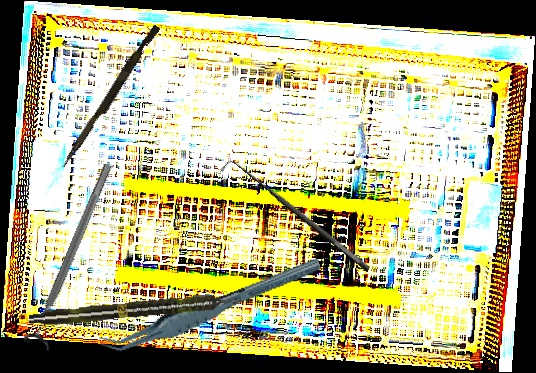Fixation Ring: (20, 159, 123, 352)
Handpiece: (28, 291, 245, 329)
Hook Surgical: (218, 152, 373, 283)
Pusher: (60, 22, 161, 172)
Tissue Forceps: (93, 256, 329, 358)
